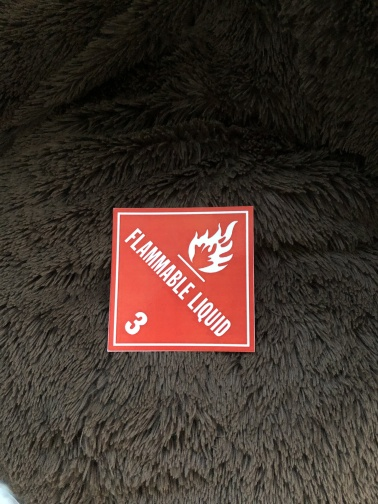FlammableLiquid: (109, 206, 255, 349)
